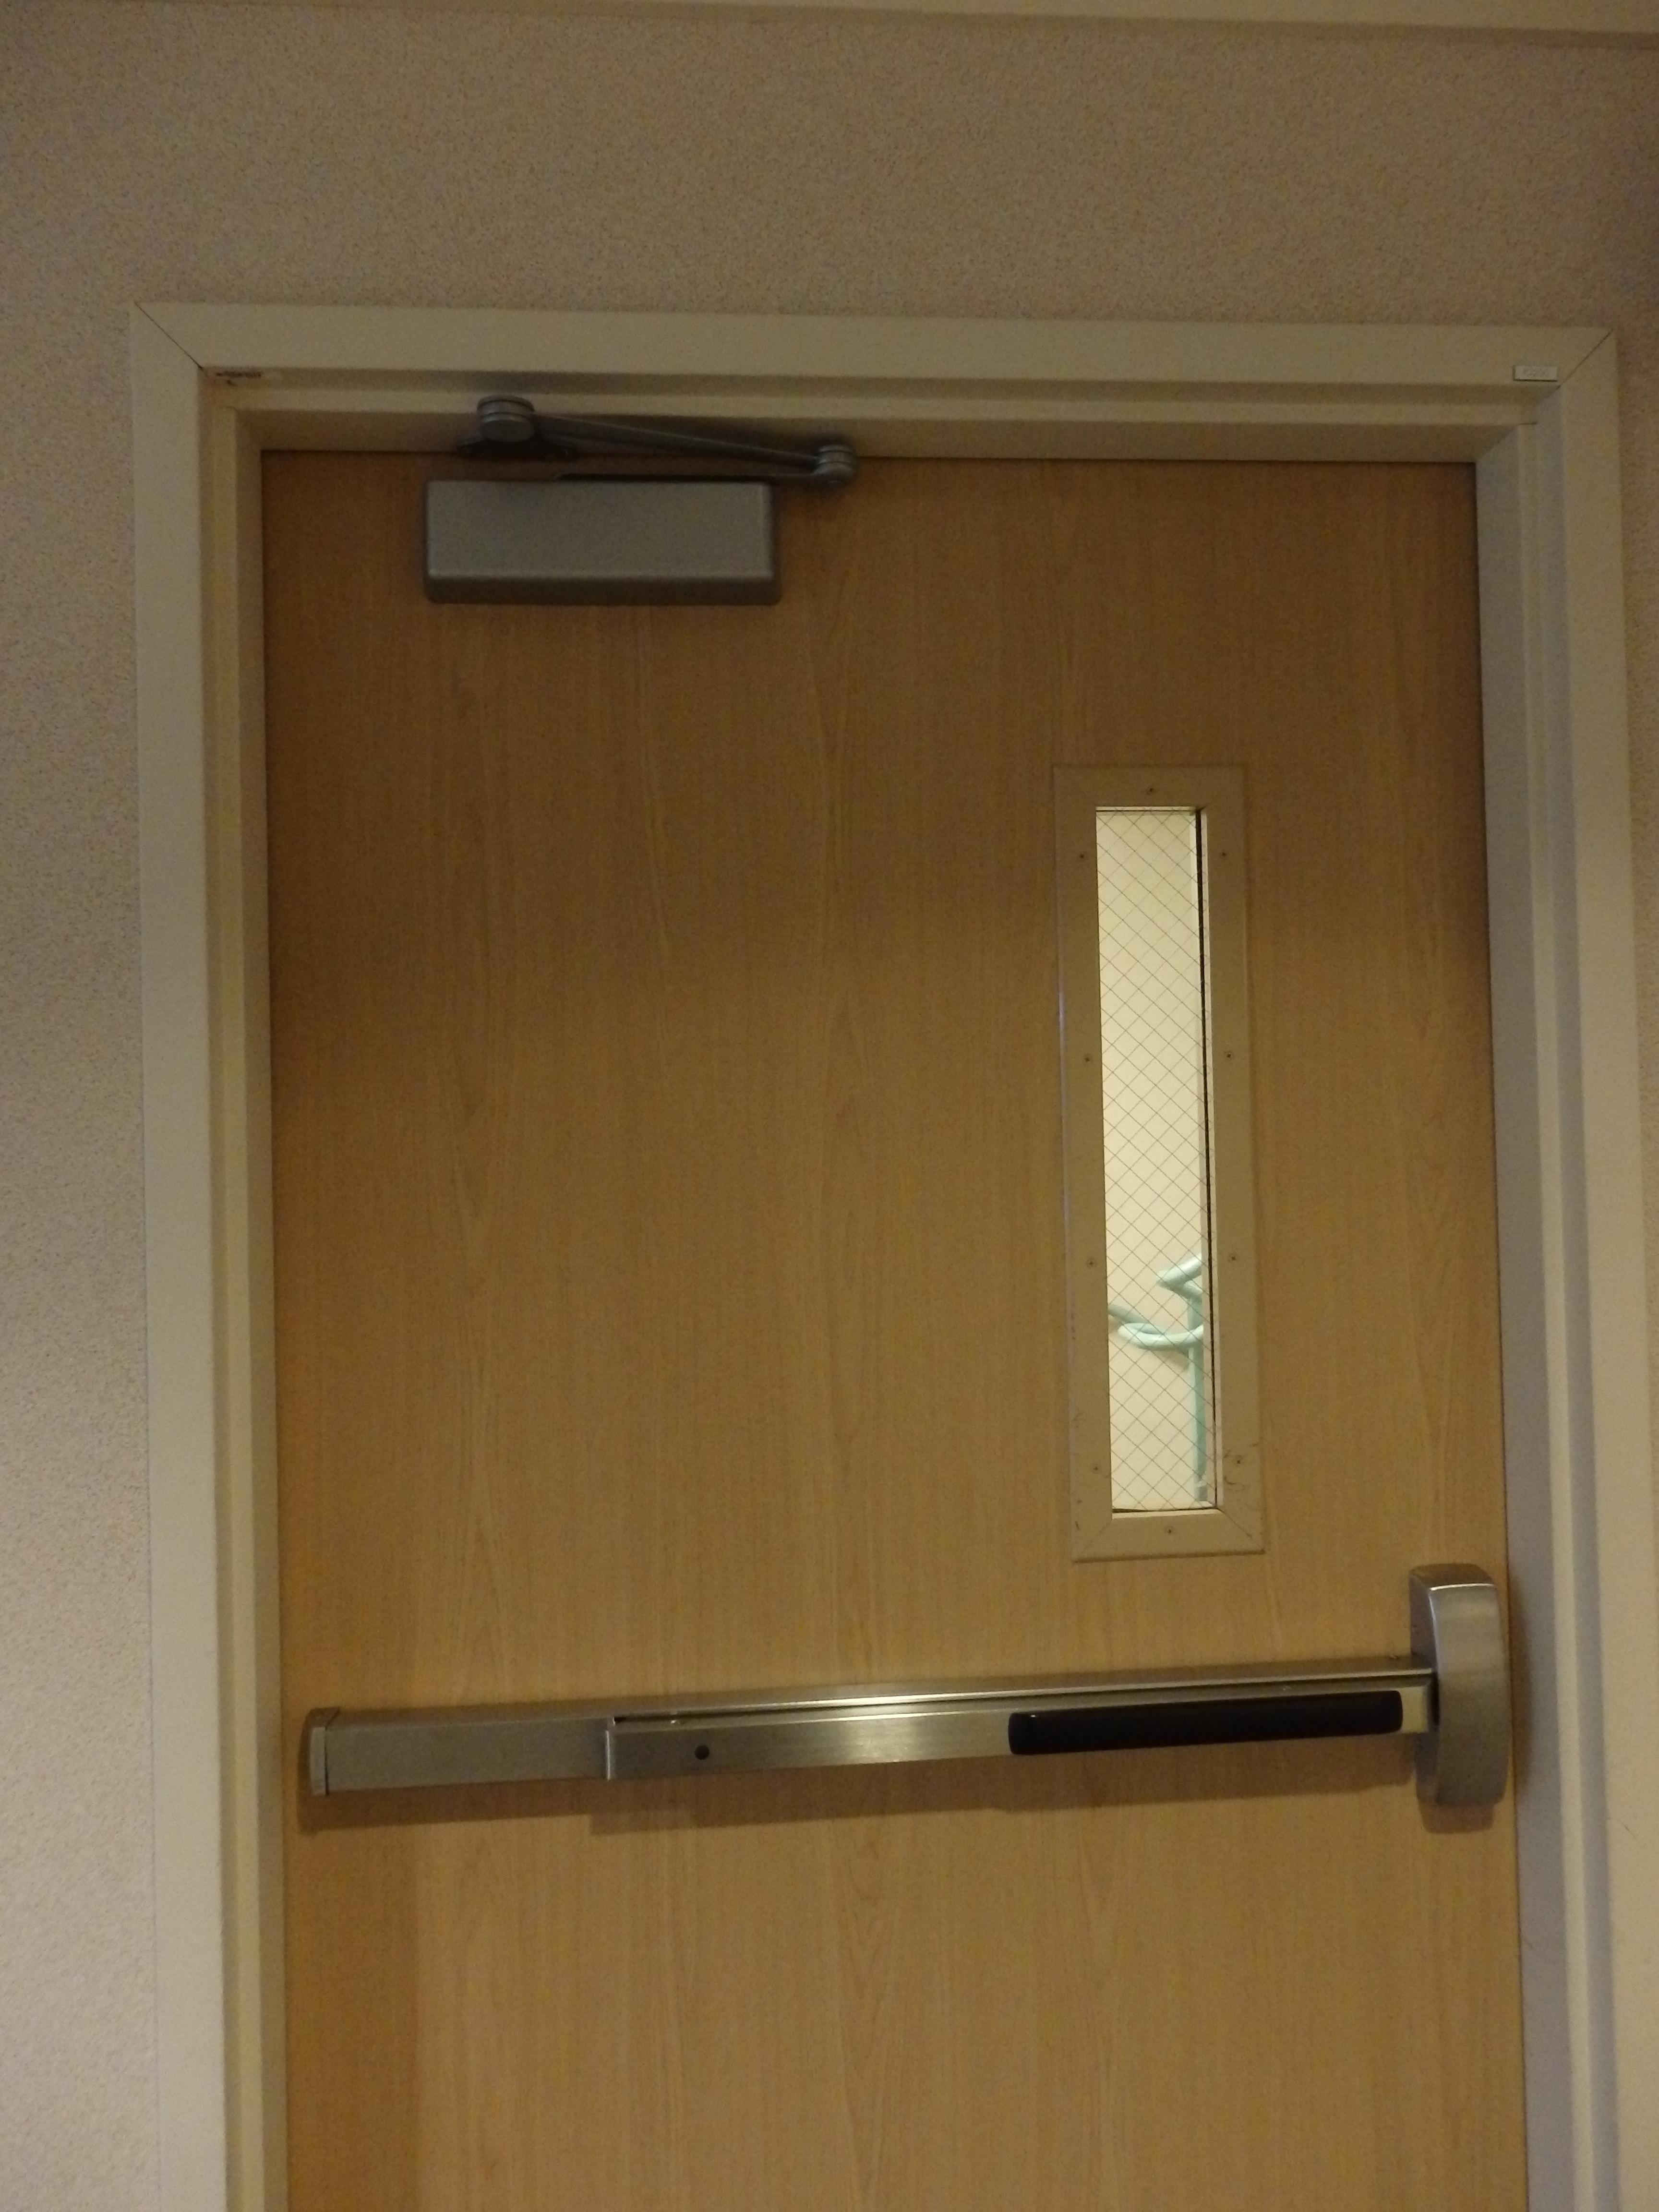door: (272, 428, 1537, 2196)
